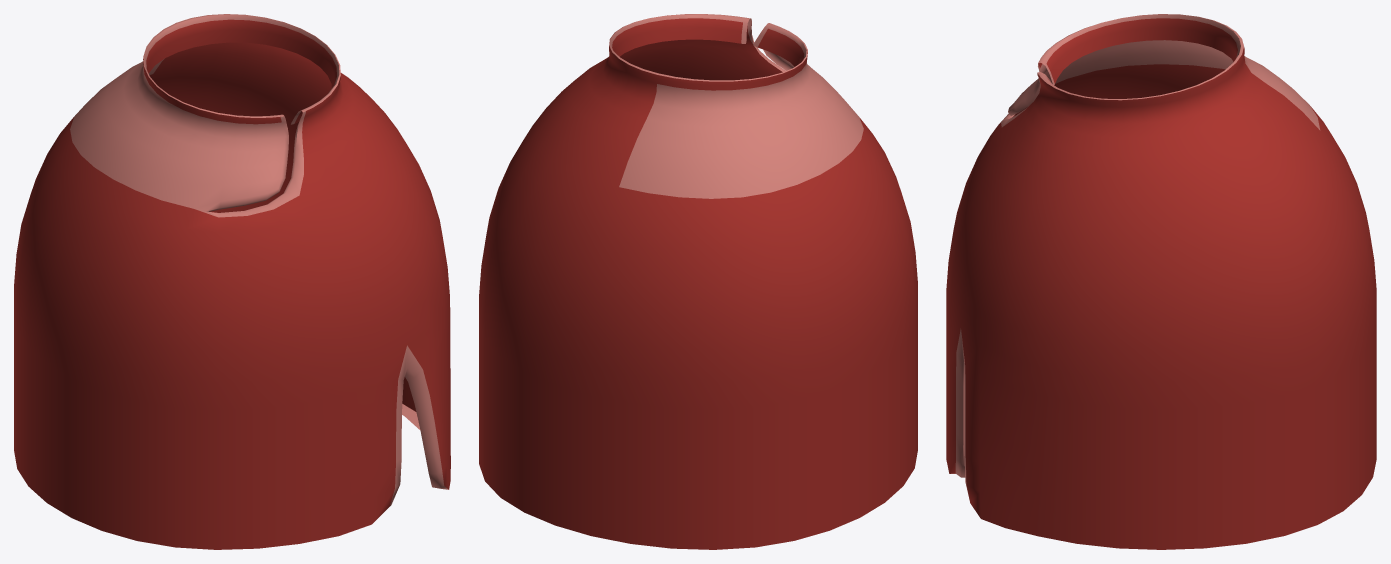
3 views of the same model, side by side, from view 1: azimuth 30°, elevation 25°; view 2: azimuth 150°, elevation 25°; view 3: azimuth 270°, elevation 25° (orthographic).
Visible parts, largest first — view 1: cheongsam; view 2: cheongsam; view 3: cheongsam.
Boxes of the visible parts, left/top/right/bottom form: cheongsam: left=14, top=14, right=450, bottom=549; cheongsam: left=479, top=14, right=917, bottom=549; cheongsam: left=946, top=14, right=1376, bottom=549.
Size of the model in its own units: 1.36 by 1.44 by 1.36.
